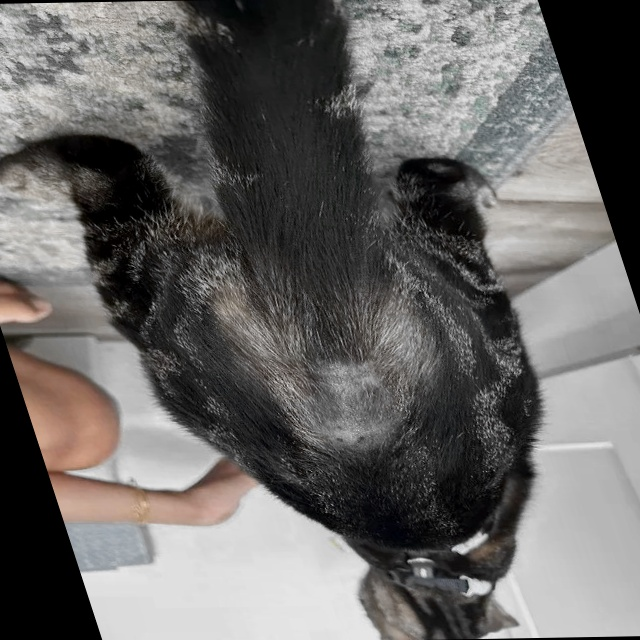hairloss: (278, 348, 408, 461)
